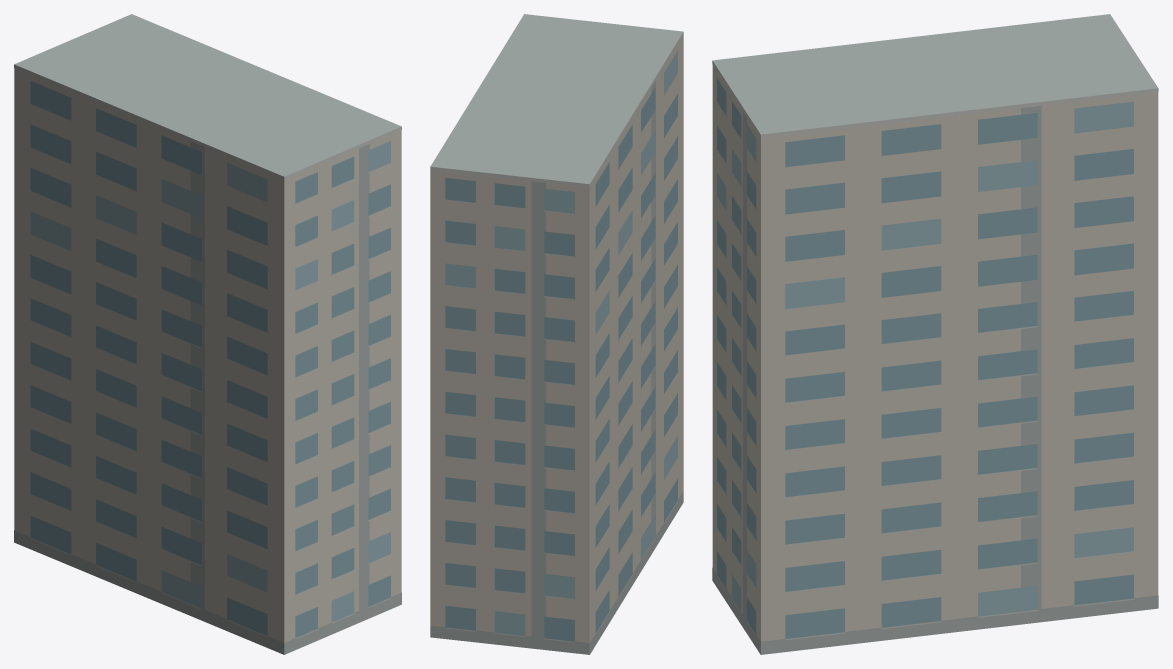
The model's file is residential-de50116d-c438-425f-b513-5c06d42d8026.glb.
3 renders of one model, left to right at view 1: azimuth 30°, elevation 25°; view 2: azimuth 150°, elevation 25°; view 3: azimuth 270°, elevation 25°, orthographic. The views are drawn at different scales.
Visible parts, largest first — view 1: residential-de50116d-c438-425f-b513-5c06d42d8026.tmp; view 2: residential-de50116d-c438-425f-b513-5c06d42d8026.tmp; view 3: residential-de50116d-c438-425f-b513-5c06d42d8026.tmp.
Boxes of the visible parts, bbox=[...] form: residential-de50116d-c438-425f-b513-5c06d42d8026.tmp: bbox=[14, 14, 401, 654]; residential-de50116d-c438-425f-b513-5c06d42d8026.tmp: bbox=[430, 14, 683, 654]; residential-de50116d-c438-425f-b513-5c06d42d8026.tmp: bbox=[712, 14, 1158, 654].
Bounding box in the file's own units: 15.92 × 32 × 24.87.
